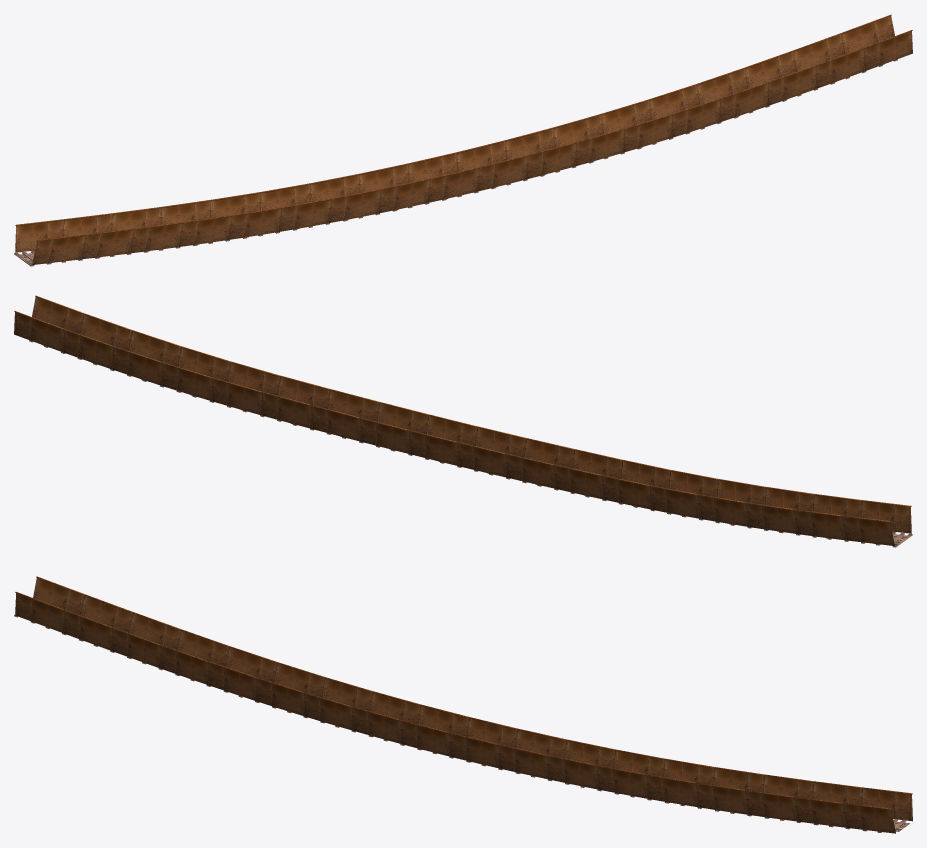
File: bridge.fbx
The picture shows the model from 3 angles, top to bottom: view 1: azimuth 30°, elevation 25°; view 2: azimuth 150°, elevation 25°; view 3: azimuth 330°, elevation 25°; orthographic projection.
Parts seen in each view (by area): view 1: Cube; view 2: Cube; view 3: Cube.
Part boxes in pixels (x1,y1,x2,y2): Cube: [14, 14, 912, 266]; Cube: [14, 295, 912, 547]; Cube: [14, 576, 912, 833].
Size of the model in its own units: 7098 by 446 by 362.
